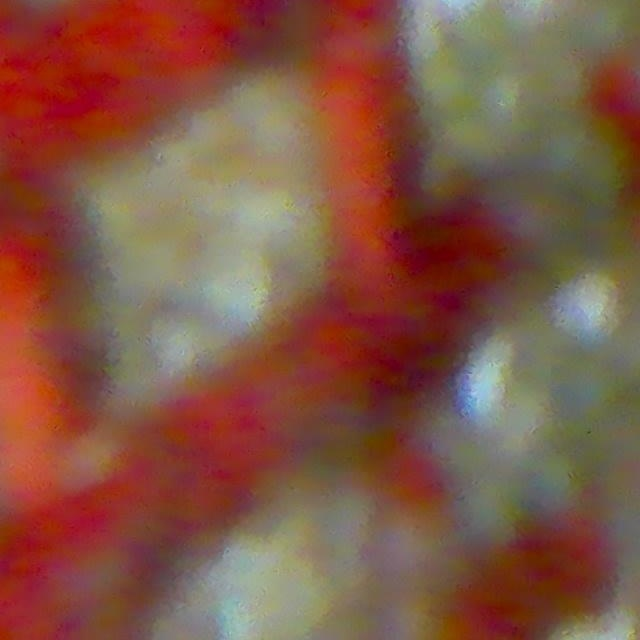SeaGrape: (550, 266, 627, 351), (550, 359, 621, 431)
